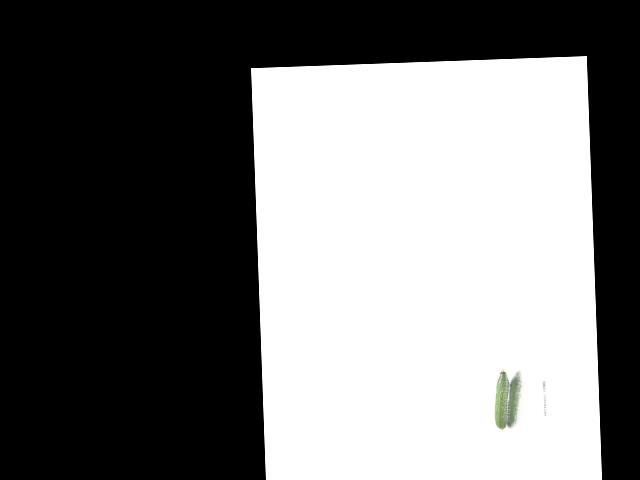cucumber: (493, 369, 511, 428)
